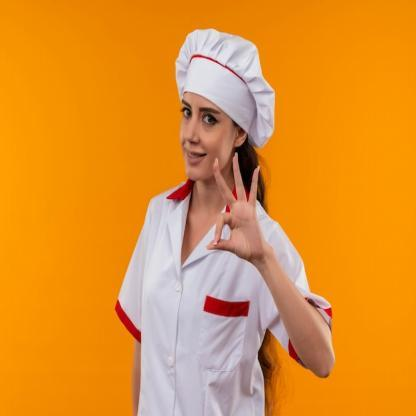ok: (206, 151, 266, 263)
